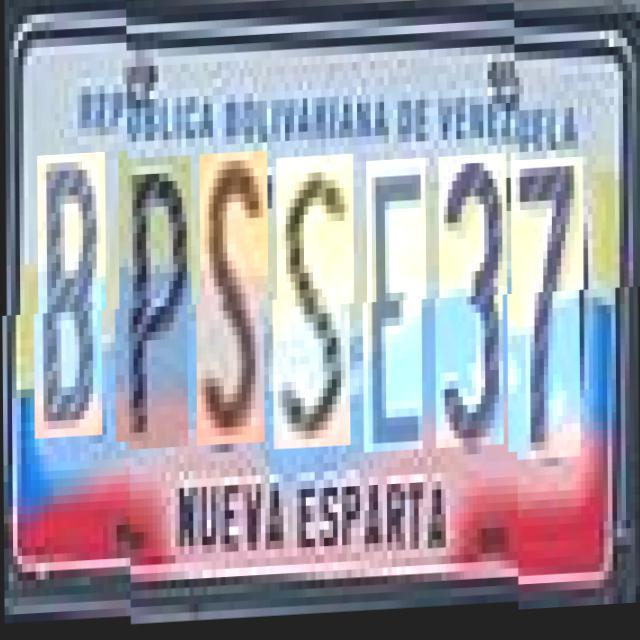3: (438, 160, 508, 453)
7: (510, 156, 584, 458)
B: (38, 161, 106, 447)
E: (366, 163, 426, 457)
P: (118, 158, 192, 452)
S: (276, 158, 354, 453), (200, 154, 268, 448)
